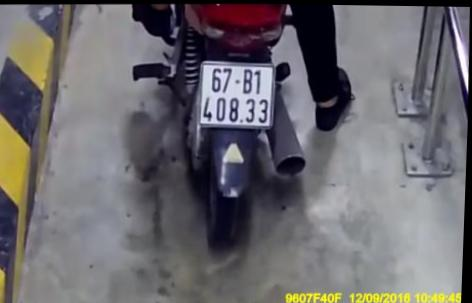LP: (196, 56, 278, 130)
